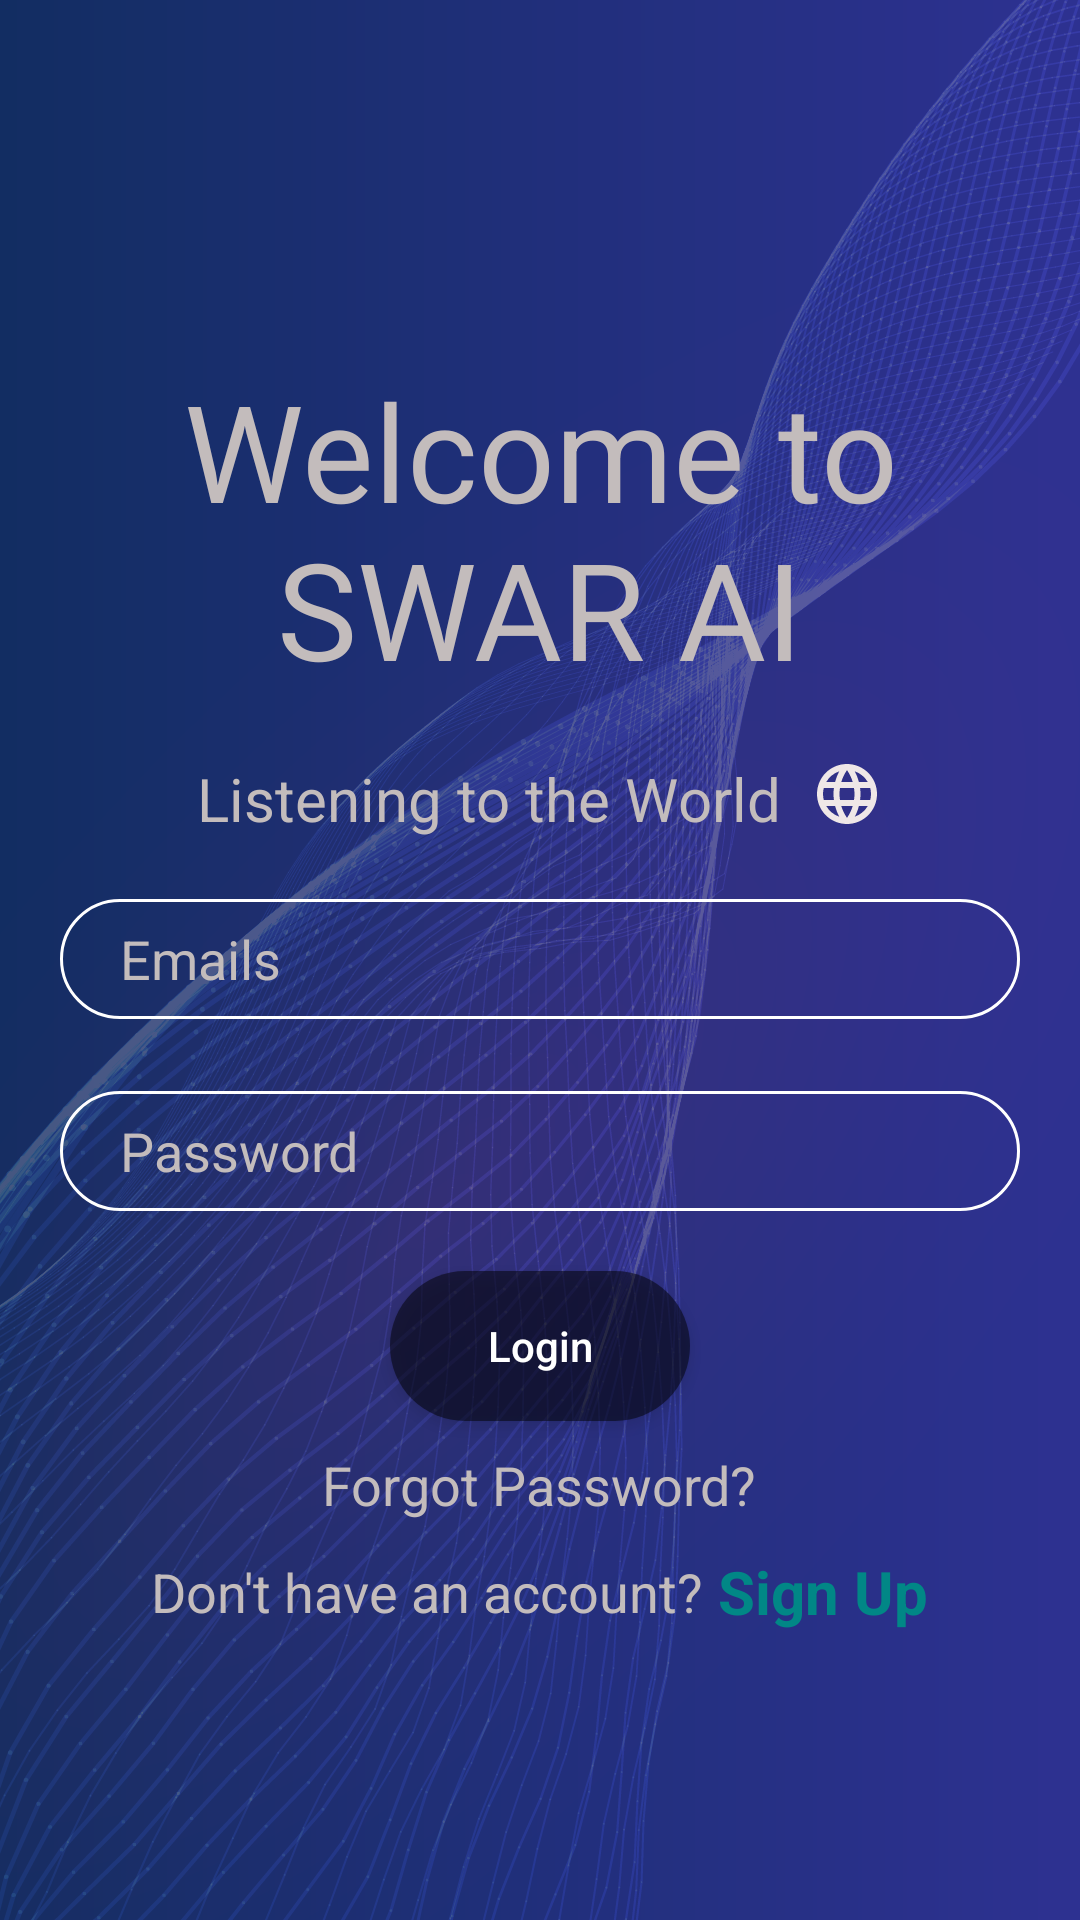

Named icons in this screenshot (1080 x 1920) and their bounding boxes, (x1, y1, x2, y2):
language: (817, 764, 877, 824)
